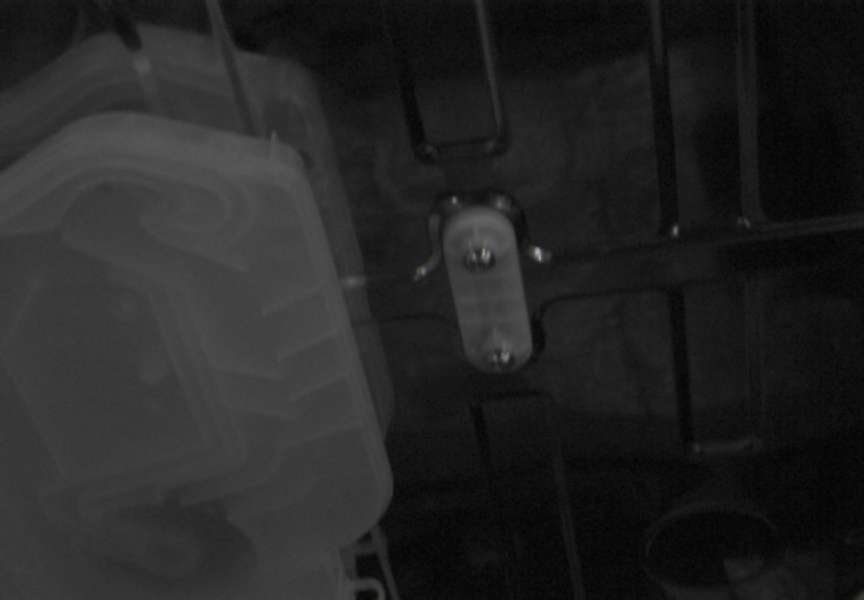screw: (463, 246, 496, 273), (486, 347, 515, 372)
